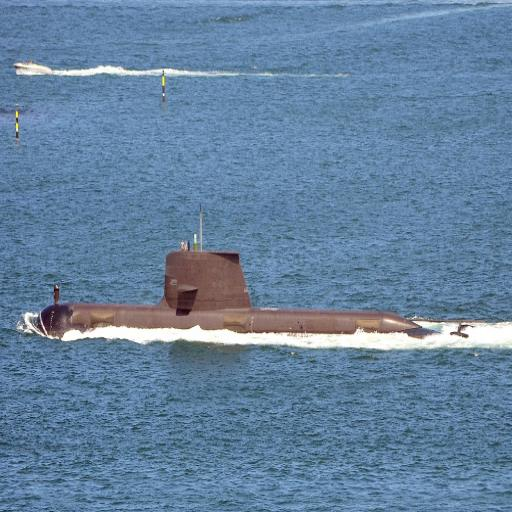submarine: (37, 205, 494, 339)
